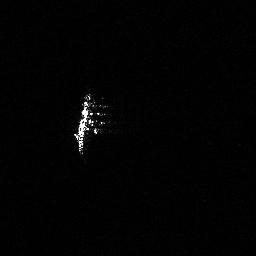ship: (70, 91, 112, 155)
